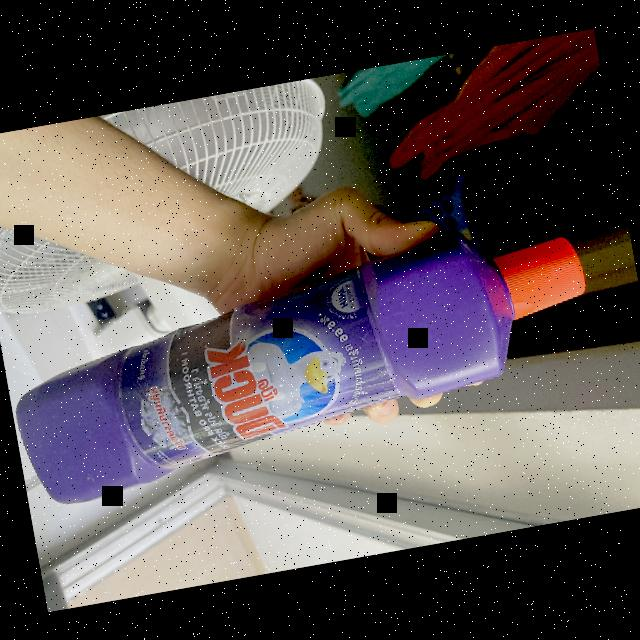toilet_cleaner: (0, 202, 614, 517)
